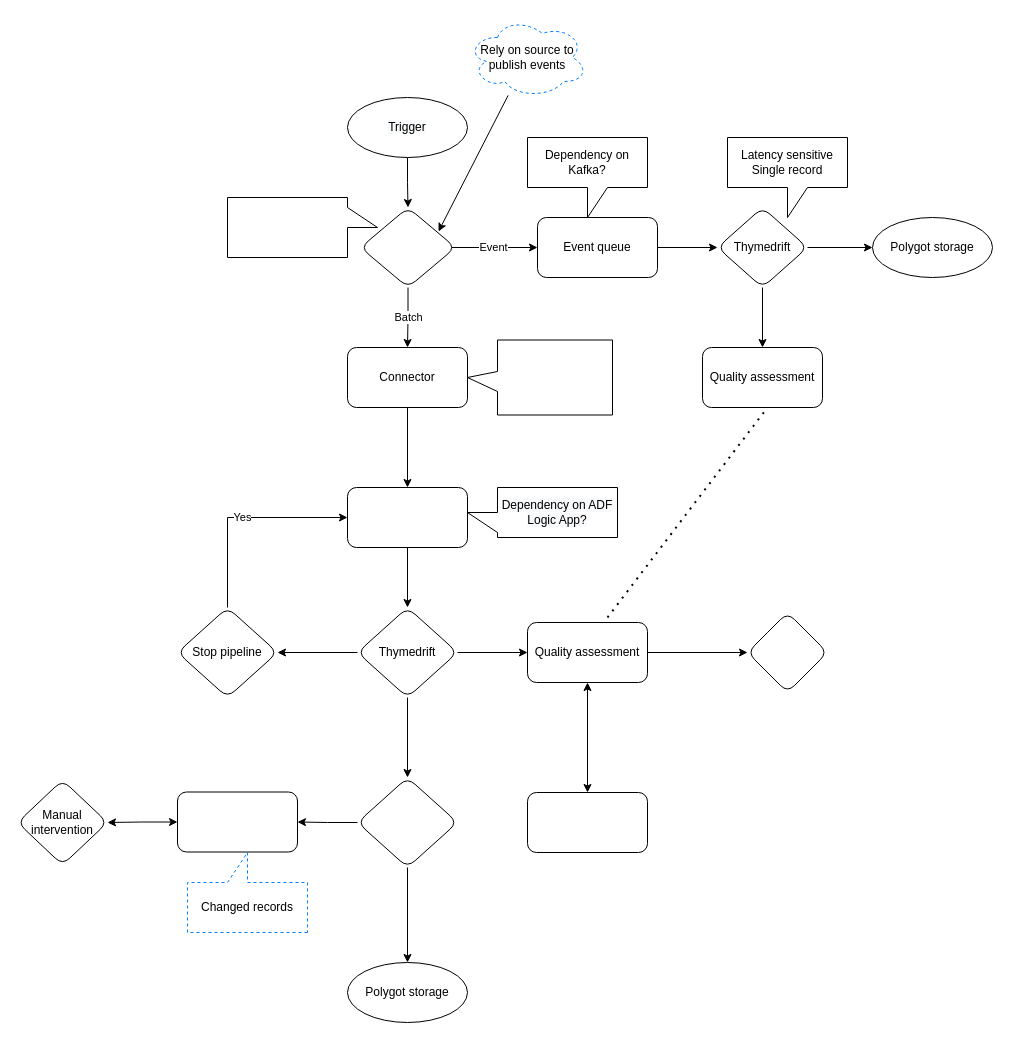
Image size: 1010x1040. Some labels were removed from this diagram. The box of each missing label's shape, as (x1, y1, x2, y2) in pixels:
ETL / ELT Pileline: (346, 486, 468, 548)
Metadata repo: (176, 791, 298, 852)
Notification: (746, 612, 828, 692)
Polygot Source: (360, 206, 456, 288)
Rules engine: (526, 792, 648, 852)
Update record: (356, 776, 458, 868)
We don't want to build these.: (466, 339, 612, 415)
What do we need to know about the file/ source format?: (226, 196, 378, 258)
